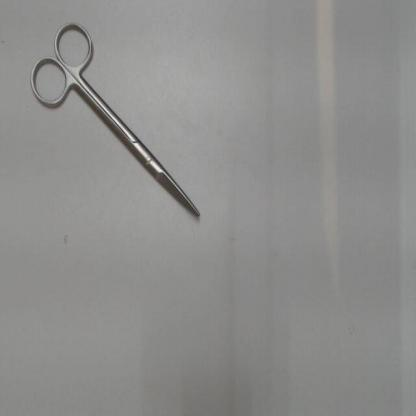Curved Mayo Scissors: (25, 14, 204, 225)
